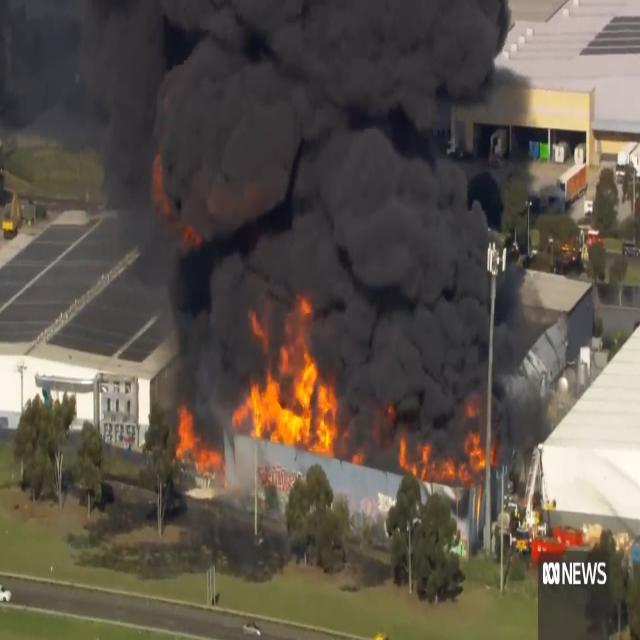fire: (236, 292, 342, 449), (393, 437, 435, 477), (458, 423, 488, 474)
